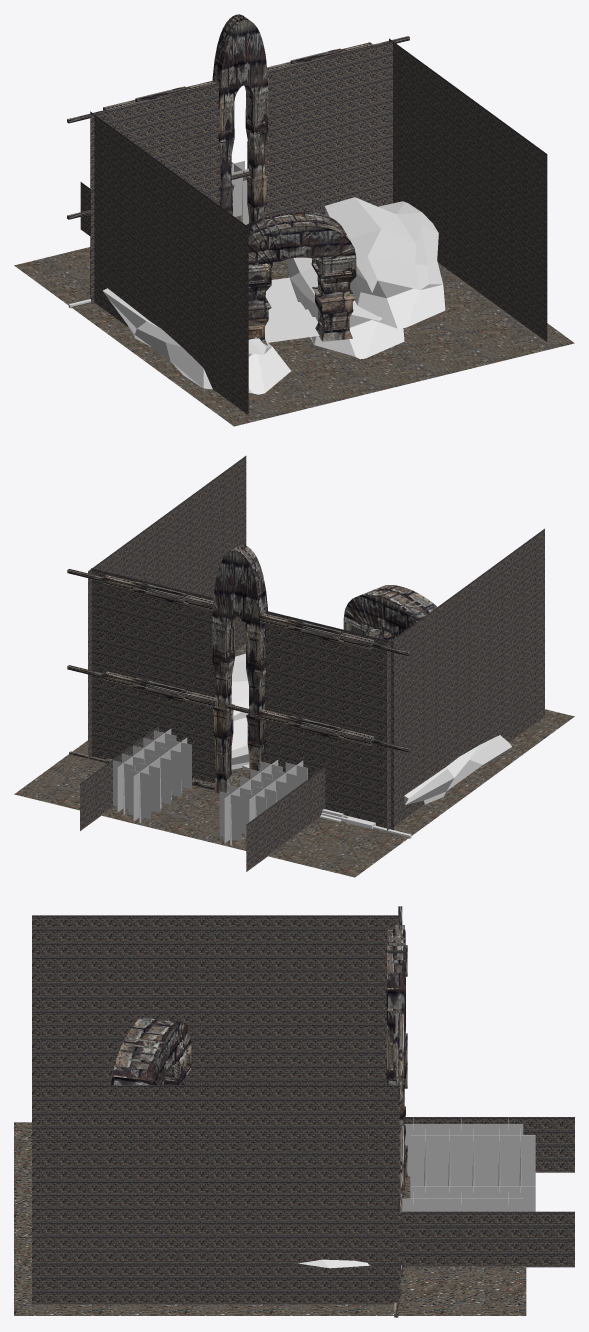
Rendered from newlevel.fbx.
3 views of the same model, one above another, from view 1: azimuth 30°, elevation 25°; view 2: azimuth 150°, elevation 25°; view 3: azimuth 270°, elevation 25° (orthographic). The views are drawn at different scales.
Parts seen in each view (by area): view 1: Plane.002, Cube.008, Cube.007, Cube.002, Plane.026, Plane.014, Plane.013, Plane.020, Plane.019, Plane.025, Plane.008, Plane.009 (+14 smaller); view 2: Plane.002, Cube.002, Plane.020, Plane.014, Plane.026, Cube.011, Plane.025, Plane.009, Plane.019, Plane.004, Cube.007, Plane.017 (+28 smaller); view 3: Plane.019, Plane.013, Plane.025, Plane.008, Plane.026, Plane.020, Plane.014, Plane.002, Plane.003, Cube.007, Plane.004, Cube.002 (+8 smaller).
Boxes of the visible parts, x1,y1,x2,y2 form: Plane.002: (14,215,574,426); Cube.008: (325,197,445,328); Cube.007: (246,211,356,345); Cube.002: (212,14,268,223); Plane.026: (90,111,248,273); Plane.014: (90,206,248,367); Plane.013: (393,135,547,295); Plane.020: (90,159,248,320); Plane.019: (393,88,547,247); Plane.025: (389,38,547,200); Plane.008: (393,183,547,341); Plane.009: (90,253,248,415); Plane.002: (14,644,574,877); Cube.002: (212,545,267,793); Plane.020: (387,575,544,737); Plane.014: (387,622,544,784); Plane.026: (387,528,544,691); Cube.011: (67,569,410,752); Plane.025: (88,456,246,618); Plane.009: (387,670,544,831); Plane.019: (88,502,246,664); Plane.004: (246,767,325,871); Cube.007: (343,585,436,640); Plane.017: (92,616,159,678); Plane.019: (32,1139,400,1194); Plane.013: (32,1194,400,1249); Plane.025: (32,1085,400,1140); Plane.008: (32,1249,400,1304); Plane.026: (32,915,400,970); Plane.020: (32,969,386,1025); Plane.014: (32,1024,386,1079); Plane.002: (14,1122,526,1315); Plane.003: (400,1211,574,1267); Cube.007: (111,1017,191,1085); Plane.004: (404,1117,574,1172); Cube.002: (386,929,405,1198).
Size of the model in its own units: 103 by 76.29 by 125.
